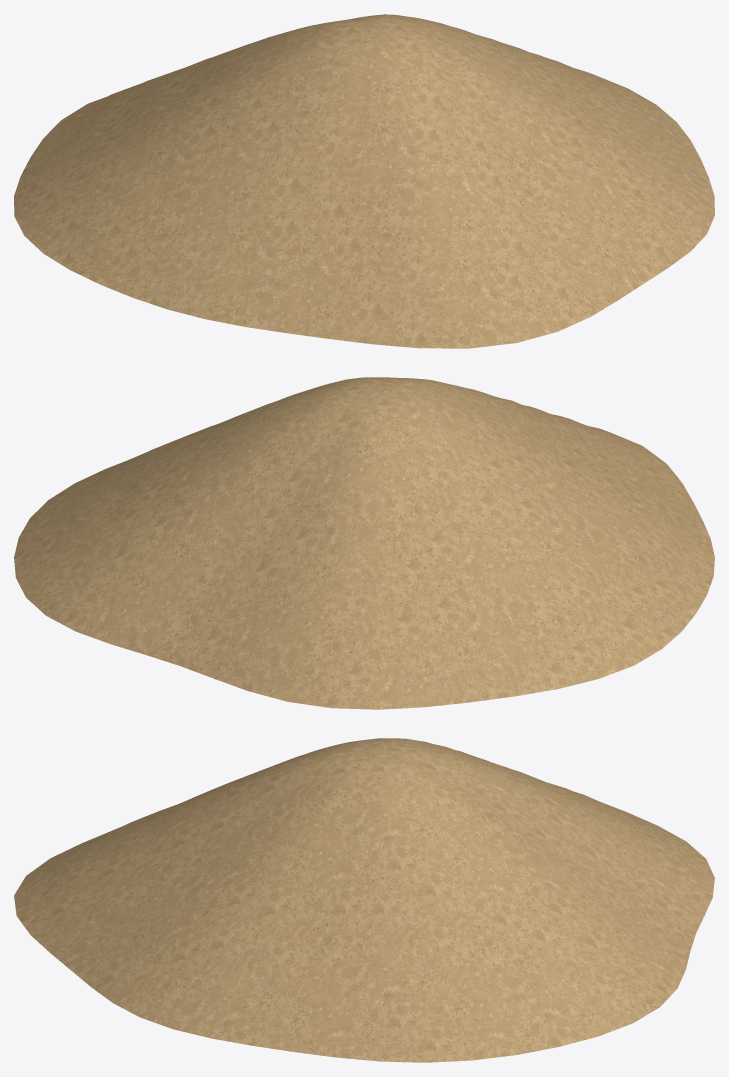
File: ALV-AGR-001_lod1.glb
3 views of the same model, one above another, from view 1: azimuth 30°, elevation 25°; view 2: azimuth 150°, elevation 25°; view 3: azimuth 270°, elevation 25° (orthographic).
Visible parts, largest first — view 1: ALV-AGR-001_monte; view 2: ALV-AGR-001_monte; view 3: ALV-AGR-001_monte.
Part boxes in pixels (x1,y1,x2,y2): ALV-AGR-001_monte: [14, 14, 714, 348]; ALV-AGR-001_monte: [14, 377, 714, 709]; ALV-AGR-001_monte: [14, 738, 714, 1062].
Bounding box in the file's own units: 1.08 × 0.2769 × 1.09.
Materials: 1 (1 with a texture image).
